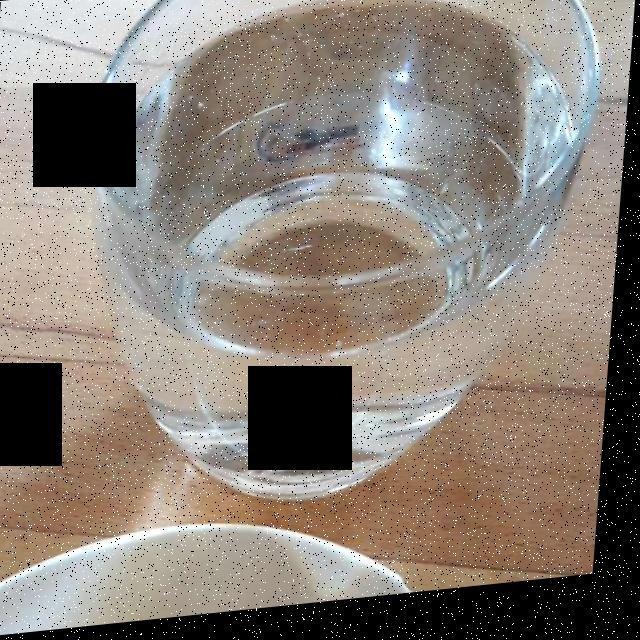water: (111, 10, 572, 490)
